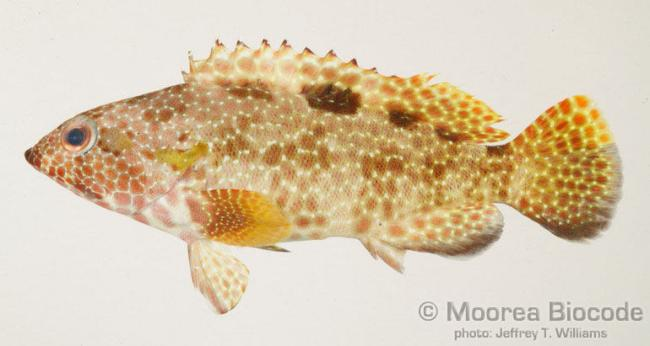fish: (24, 37, 624, 314)
